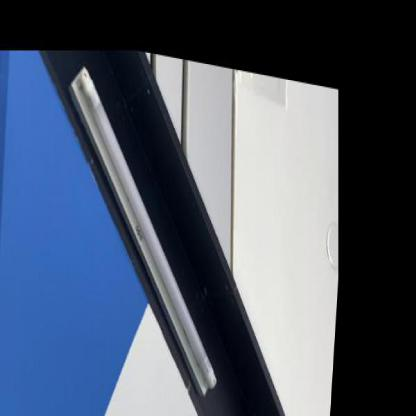light_off: (46, 54, 240, 416)
